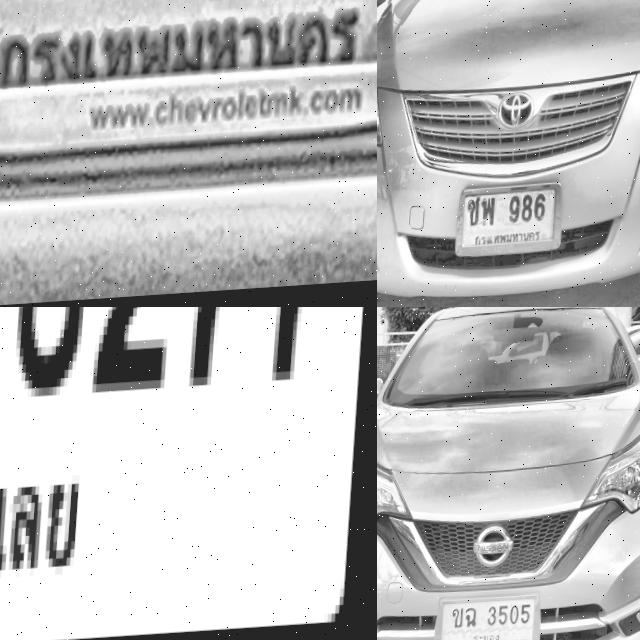license-plate: (0, 307, 377, 640), (0, 0, 377, 167), (453, 180, 576, 266), (436, 592, 553, 640)
